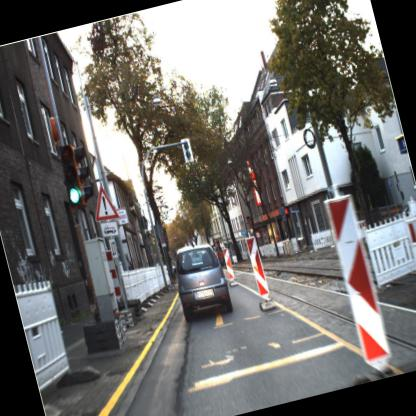danger: (83, 178, 123, 228)
